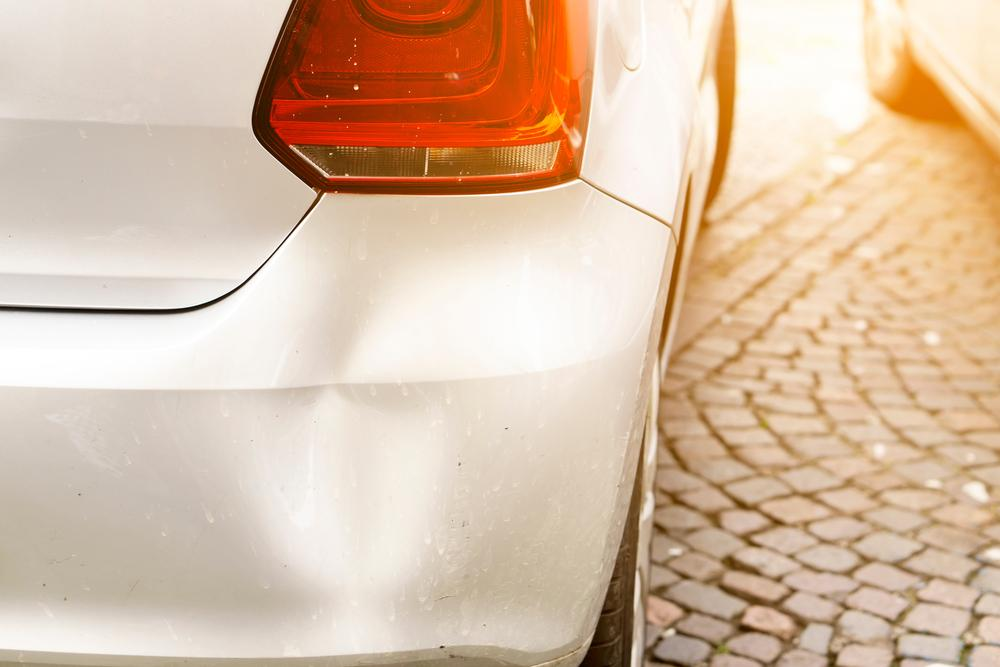dent: (244, 260, 461, 588)
